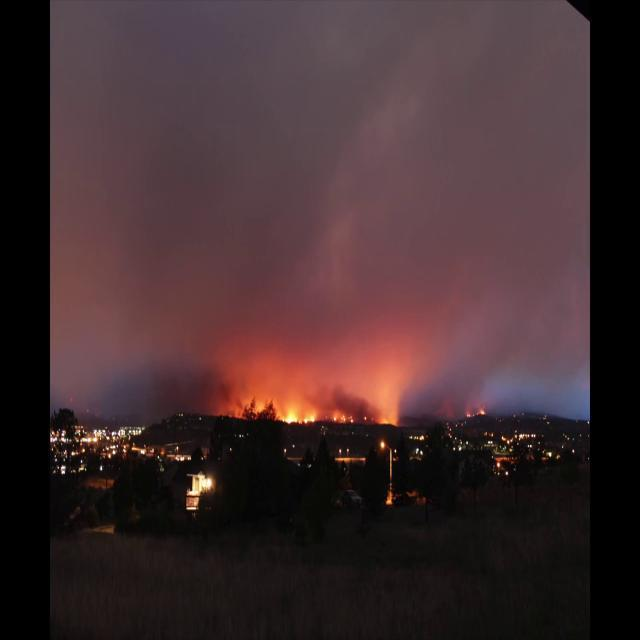Fire: (282, 412, 314, 425), (333, 414, 354, 424), (379, 419, 397, 425), (478, 408, 486, 415), (467, 410, 472, 418)
Smoke: (49, 2, 588, 427)
